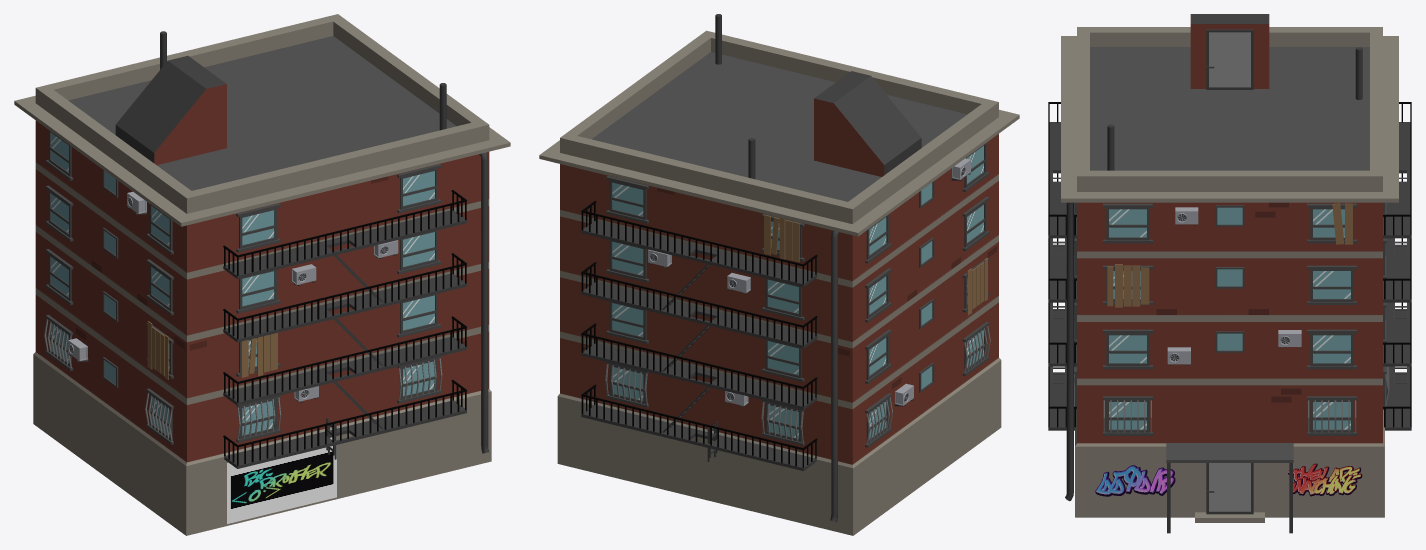
The model's file is ghetto_building_01.fbx.
3 renders of one model, left to right at view 1: azimuth 30°, elevation 25°; view 2: azimuth 150°, elevation 25°; view 3: azimuth 270°, elevation 25°, orthographic. The views are drawn at different scales.
Visible parts, largest first — view 1: building, grafiti_3; view 2: building; view 3: building, grafiti_1, grafiti_2.
Part boxes in pixels (bbox=[...]): building: bbox=[14, 14, 510, 535]; grafiti_3: bbox=[227, 436, 336, 523]; building: bbox=[539, 14, 1019, 535]; building: bbox=[1048, 14, 1411, 533]; grafiti_1: bbox=[1288, 463, 1362, 496]; grafiti_2: bbox=[1095, 465, 1175, 496].
Bounding box in the file's own units: 1739 × 1917 × 1544.
